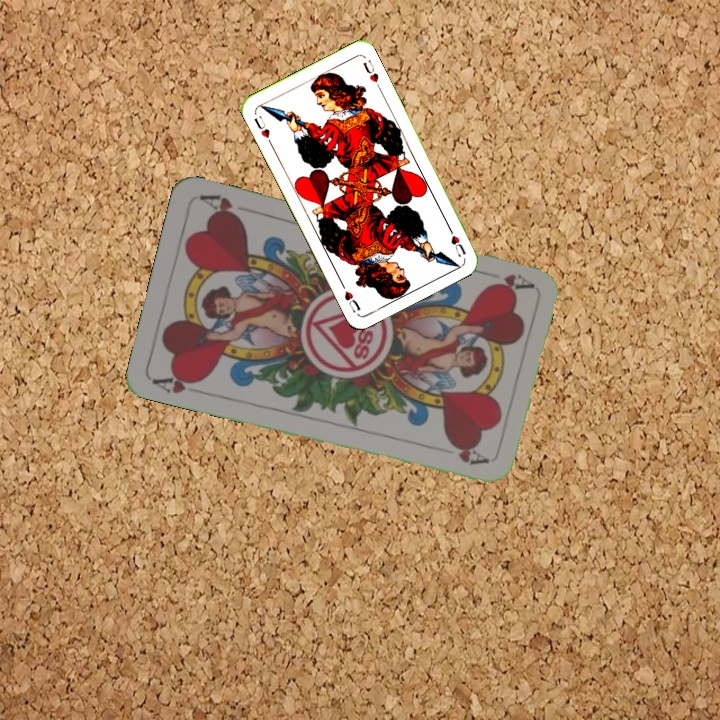HA: (149, 368, 207, 397), (476, 266, 534, 292)
HU: (444, 222, 469, 259), (250, 112, 274, 147)
